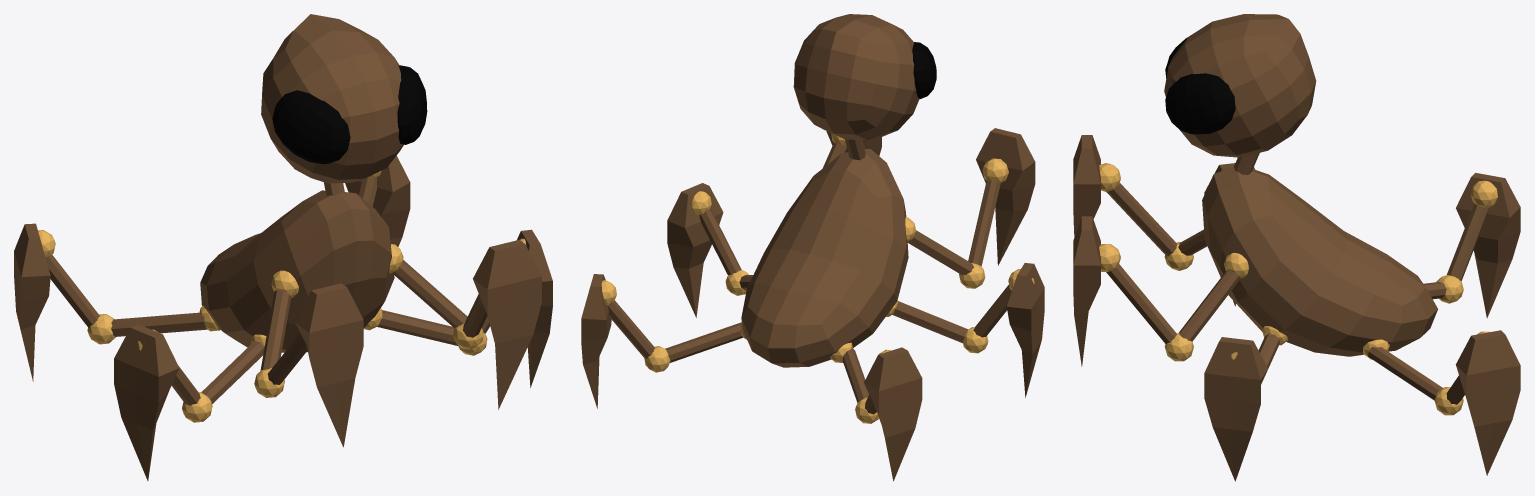
File: LouvaDeus.fbx
The picture shows the model from 3 angles, left to right: view 1: azimuth 30°, elevation 25°; view 2: azimuth 150°, elevation 25°; view 3: azimuth 270°, elevation 25°; orthographic projection. The views are drawn at different scales.
Visible parts, largest first — view 1: Body; view 2: Body; view 3: Body.
Part boxes in pixels (bbox=[...]): Body: bbox=[14, 14, 552, 480]; Body: bbox=[581, 14, 1044, 481]; Body: bbox=[1073, 14, 1520, 481].
Size of the model in its own units: 5.54 by 5.05 by 5.41.
